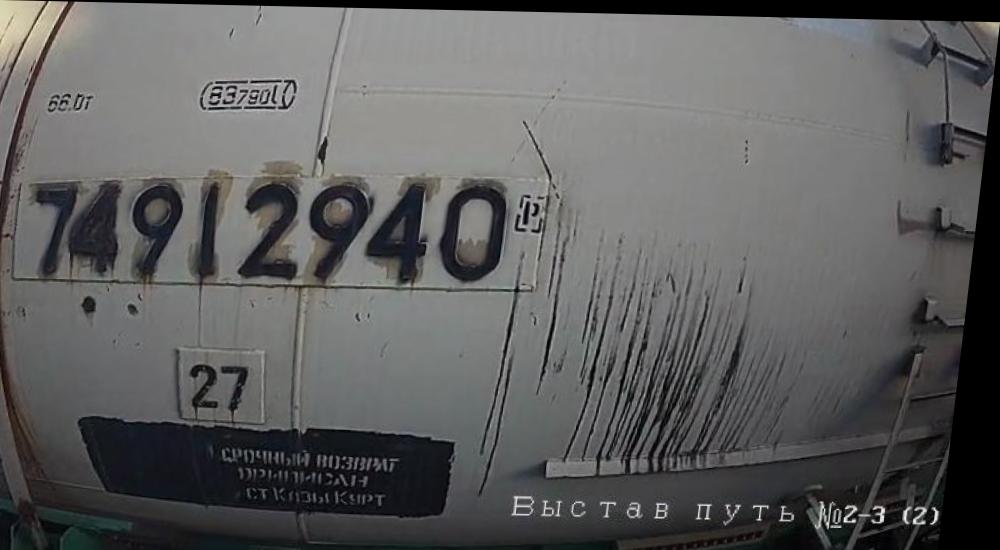Wagon-number: (26, 169, 521, 290)
